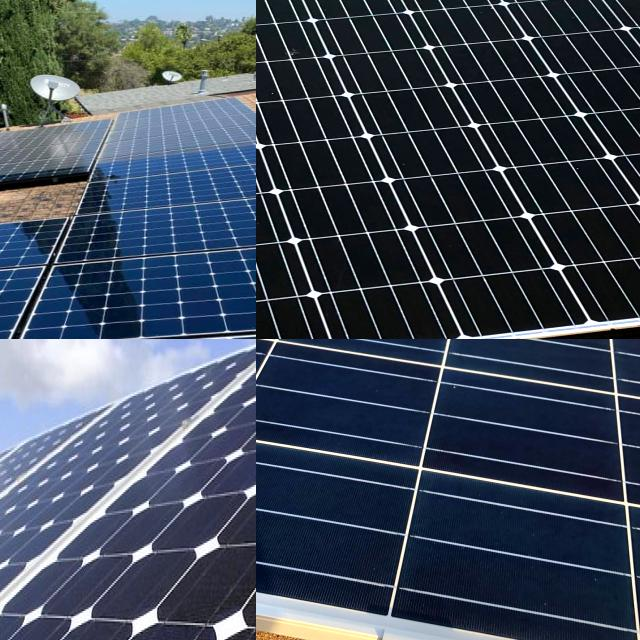crack: (256, 0, 640, 339), (256, 339, 640, 640), (0, 339, 256, 640), (36, 176, 256, 269), (34, 249, 256, 339), (0, 261, 161, 339), (55, 149, 256, 209), (0, 221, 167, 289)
